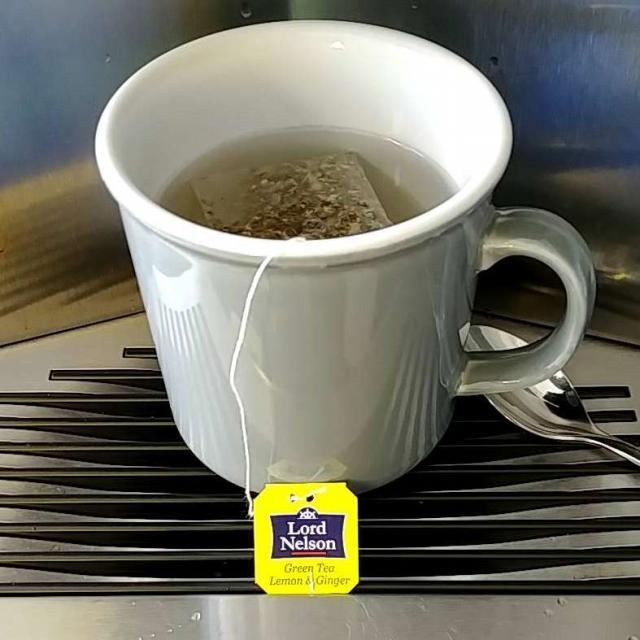tea: (161, 146, 428, 237)
